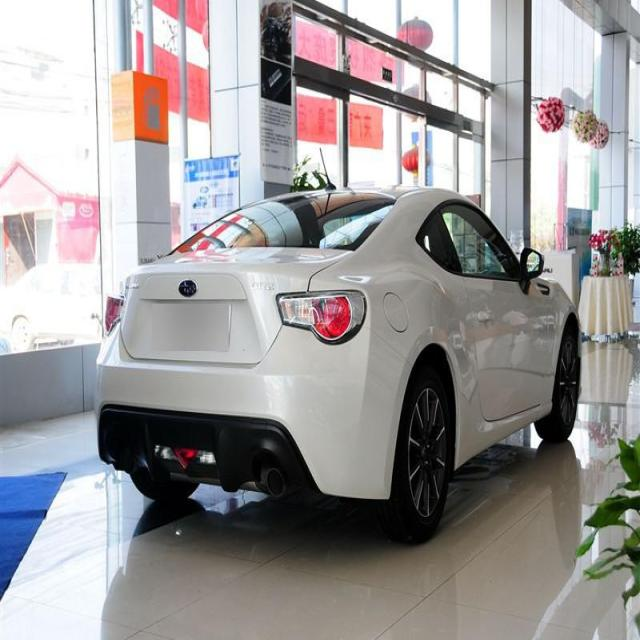back_glass: (170, 191, 398, 253)
back_left_side_light: (100, 286, 126, 336)
back_right_side_light: (273, 288, 369, 345)
front_right_side_door: (439, 192, 551, 424)
front_right_side_mirror: (519, 244, 545, 283)
rear_bumper: (94, 328, 410, 502)
wheel: (386, 367, 452, 538), (530, 325, 584, 444)
